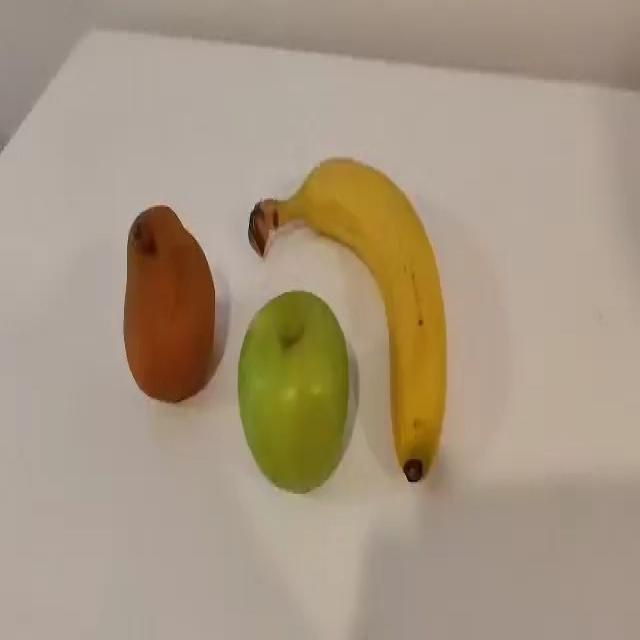Apple: (236, 288, 354, 496)
Banana: (247, 155, 446, 481)
